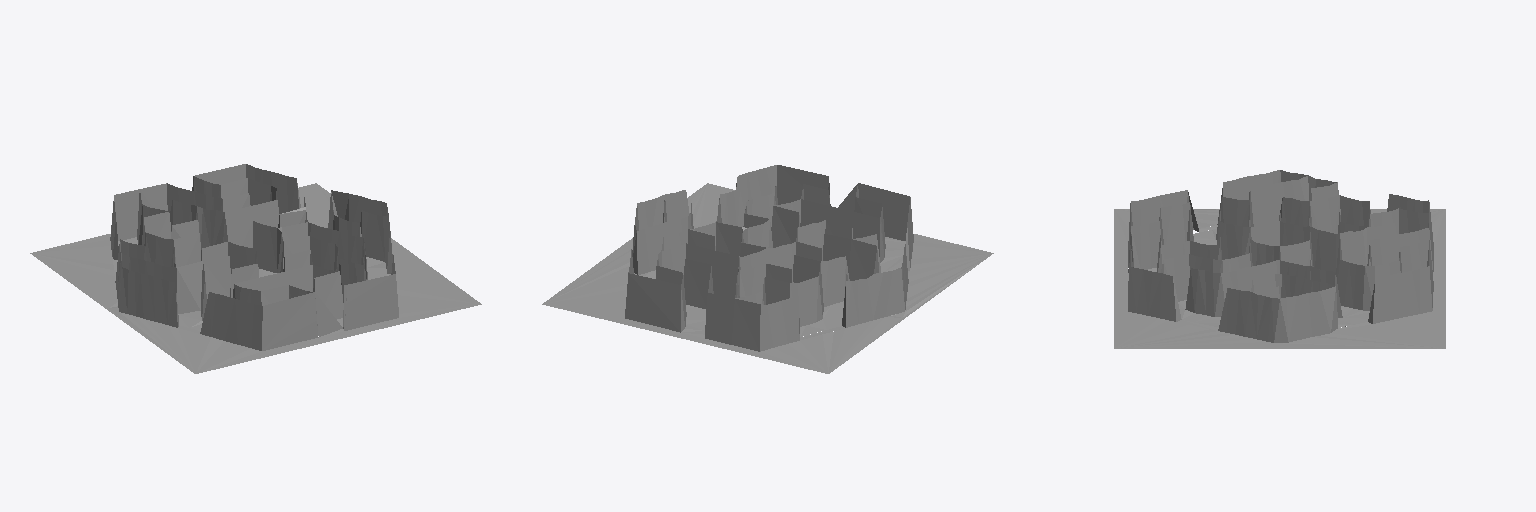
File: big_maze.obj
3 renders of one model, left to right at view 1: azimuth 30°, elevation 25°; view 2: azimuth 150°, elevation 25°; view 3: azimuth 270°, elevation 25°, orthographic.
Parts seen in each view (by area): view 1: Plane_Plane.003; view 2: Plane_Plane.003; view 3: Plane_Plane.003.
Boxes of the visible parts, x1=… form: Plane_Plane.003: x1=30, y1=164, x2=481, y2=373; Plane_Plane.003: x1=542, y1=165, x2=993, y2=373; Plane_Plane.003: x1=1114, y1=170, x2=1445, y2=348.
Size of the model in its own units: 16 by 2.45 by 16.